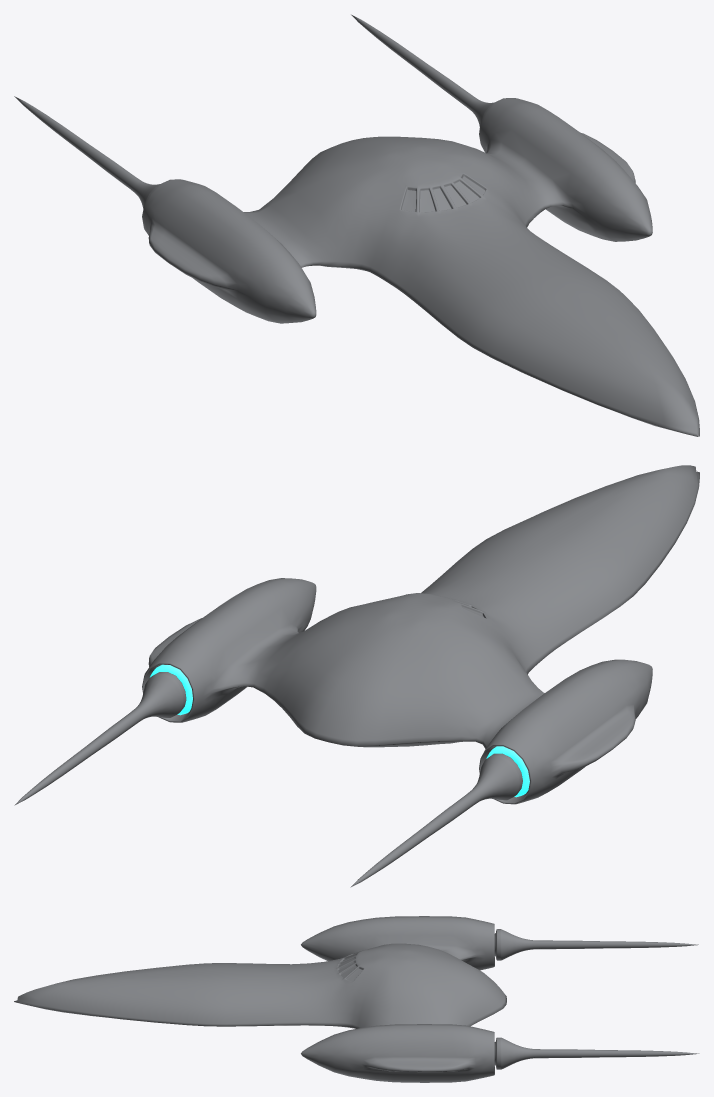
The model's file is sw_naboo_royal_starship.glb.
The picture shows the model from 3 angles, top to bottom: view 1: azimuth 30°, elevation 25°; view 2: azimuth 150°, elevation 25°; view 3: azimuth 270°, elevation 25°; orthographic projection. The views are drawn at different scales.
Visible parts, largest first — view 1: Object_3, Object_2; view 2: Object_3, Object_2; view 3: Object_2, Object_3.
Part boxes in pixels (bbox=[...]): Object_3: bbox=[14, 14, 699, 436]; Object_2: bbox=[353, 102, 699, 432]; Object_3: bbox=[14, 465, 699, 887]; Object_2: bbox=[148, 467, 672, 797]; Object_2: bbox=[17, 954, 487, 1082]; Object_3: bbox=[14, 916, 699, 1079].
Size of the model in its own units: 0.934 by 0.2274 by 1.87.
1 material, 1 textured.
